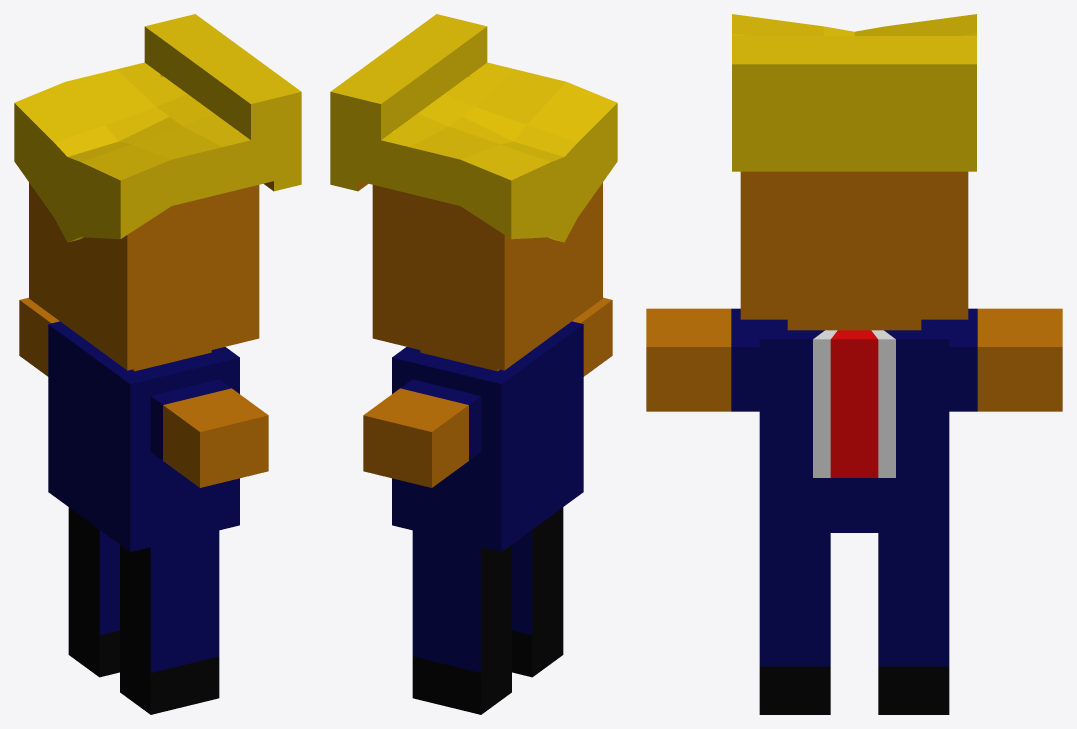
File: Diktator.fbx
The picture shows the model from 3 angles, left to right: view 1: azimuth 30°, elevation 25°; view 2: azimuth 150°, elevation 25°; view 3: azimuth 270°, elevation 25°; orthographic projection. The views are drawn at different scales.
Parts seen in each view (by area): view 1: Cube, Cube.001; view 2: Cube, Cube.001; view 3: Cube, Cube.001.
Part boxes in pixels (box(x1,y1,x2,y2)): Cube: box(19, 182, 268, 714); Cube.001: box(14, 14, 301, 242); Cube: box(363, 182, 612, 714); Cube.001: box(330, 14, 617, 242); Cube: box(646, 171, 1062, 714); Cube.001: box(732, 14, 976, 171).
Size of the model in its own units: 113 by 356 by 195.
